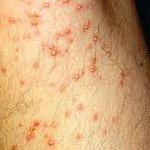Ants: (18, 117, 44, 141), (43, 41, 60, 57), (57, 27, 72, 42), (67, 70, 83, 82), (79, 19, 92, 33), (43, 134, 56, 147), (28, 12, 39, 26), (57, 80, 68, 93), (118, 71, 126, 88), (6, 16, 18, 25), (22, 30, 34, 39), (19, 79, 28, 90), (63, 107, 72, 118), (73, 102, 84, 111), (90, 34, 99, 44), (88, 64, 96, 74), (74, 132, 84, 140), (85, 43, 94, 51), (75, 4, 83, 13), (92, 112, 100, 121), (43, 1, 51, 9), (100, 127, 108, 135), (0, 65, 6, 75), (33, 60, 39, 69), (60, 0, 70, 5), (14, 48, 18, 60), (12, 143, 18, 149), (112, 116, 118, 121)
